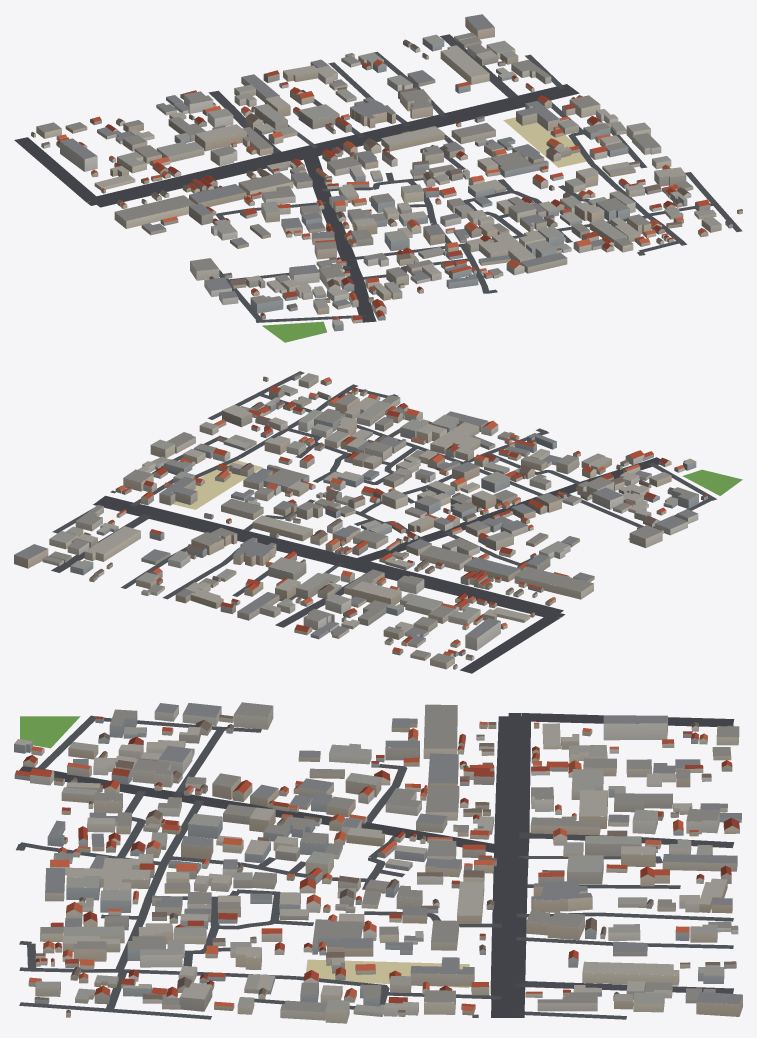
3 renders of one model, top to bottom at view 1: azimuth 30°, elevation 25°; view 2: azimuth 150°, elevation 25°; view 3: azimuth 270°, elevation 25°, orthographic. The views are drawn at different scales.
Visible parts, largest first — view 1: buildings_roofs, buildings_walls, roads, landuse; view 2: buildings_roofs, buildings_walls, roads, landuse; view 3: buildings_roofs, buildings_walls, roads, landuse.
Boxes of the visible parts, <box> form: buildings_roofs: <box>31,14,742,324</box>; buildings_walls: <box>31,17,742,331</box>; roads: <box>14,34,742,322</box>; landuse: <box>262,117,586,342</box>; buildings_roofs: <box>14,373,707,666</box>; buildings_walls: <box>14,374,707,669</box>; roads: <box>51,371,716,673</box>; landuse: <box>173,460,742,509</box>; buildings_roofs: <box>14,702,742,1013</box>; buildings_walls: <box>14,706,742,1023</box>; roads: <box>16,713,734,1019</box>; landuse: <box>20,716,469,987</box>.
Size of the model in its own units: 518 by 12.8 by 511.
